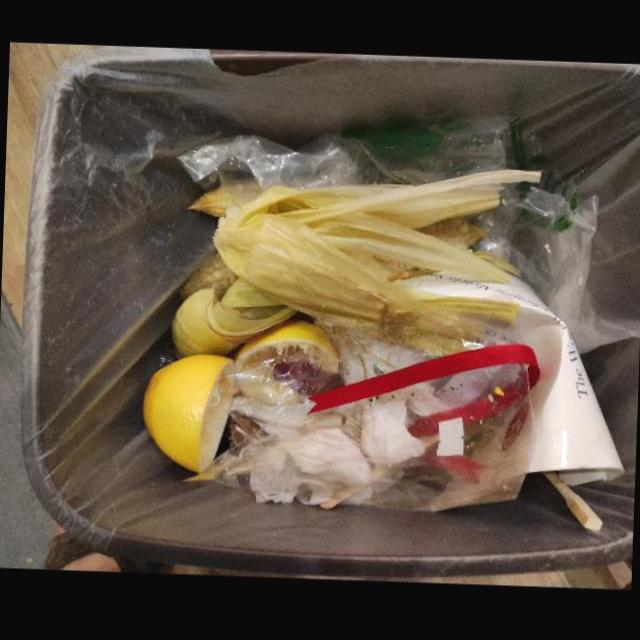giay: (386, 274, 624, 488)
tui_ni_long: (176, 118, 511, 191)
vo_trai_cay: (187, 170, 542, 343), (171, 254, 298, 360), (141, 355, 234, 477), (234, 320, 338, 405)
